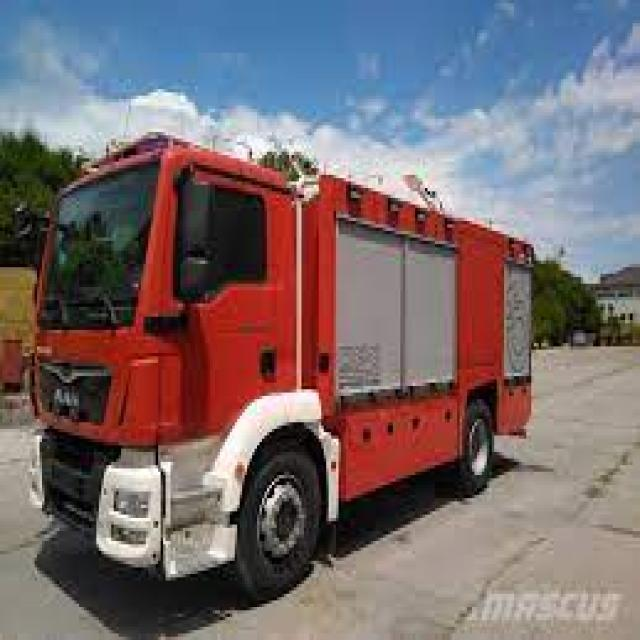pompier: (32, 133, 530, 596)
